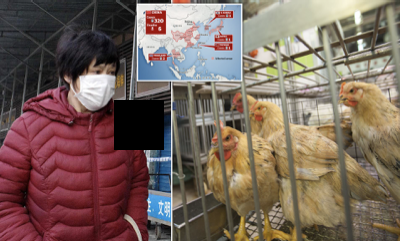with_mask: (74, 62, 120, 112)
